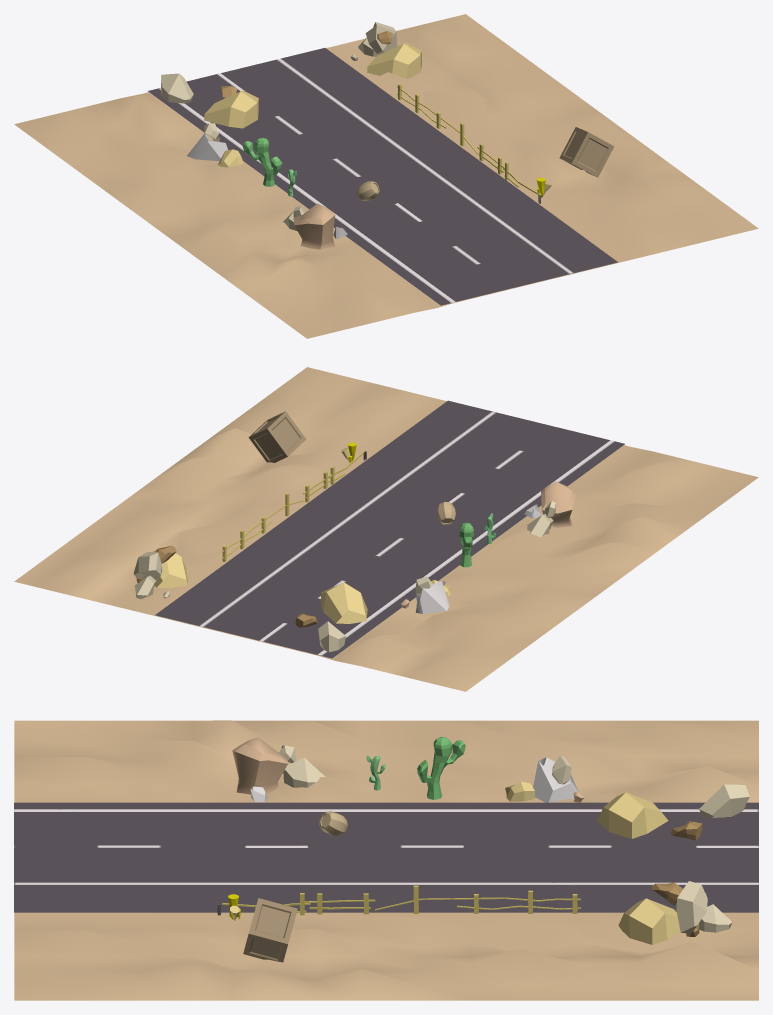
The model's file is moitruong.fbx.
3 renders of one model, top to bottom at view 1: azimuth 30°, elevation 25°; view 2: azimuth 150°, elevation 25°; view 3: azimuth 270°, elevation 25°, orthographic. The views are drawn at different scales.
Parts seen in each view (by area): view 1: desert, road, rock_1, rock_2, thunggo_1, polySurface156, rock_3, cactus_1, polySurface159, hangrao_1; view 2: desert, road, rock_1, thunggo_1, rock_2, polySurface156, rock_3, polySurface159, hangrao_1; view 3: desert, road, rock_1, rock_2, thunggo_1, rock_3, polySurface156, cactus_1, polySurface159, hangrao_1, thunggo_2, hangrao_2.
Boxes of the visible parts, bbox=[...] form: desert: bbox=[14, 14, 758, 338]; road: bbox=[148, 48, 617, 305]; rock_1: bbox=[350, 22, 421, 78]; rock_2: bbox=[283, 203, 347, 249]; thunggo_1: bbox=[559, 127, 614, 177]; polySurface156: bbox=[204, 90, 258, 128]; rock_3: bbox=[187, 123, 243, 167]; cactus_1: bbox=[242, 137, 282, 186]; polySurface159: bbox=[161, 73, 193, 103]; hangrao_1: bbox=[397, 84, 478, 154]; desert: bbox=[14, 367, 758, 691]; road: bbox=[155, 400, 624, 658]; rock_1: bbox=[133, 545, 187, 598]; thunggo_1: bbox=[248, 411, 306, 462]; rock_2: bbox=[524, 481, 575, 537]; polySurface156: bbox=[321, 582, 367, 623]; rock_3: bbox=[401, 576, 451, 613]; polySurface159: bbox=[318, 621, 345, 652]; hangrao_1: bbox=[222, 493, 303, 561]; desert: bbox=[14, 720, 758, 1000]; road: bbox=[14, 802, 758, 912]; rock_1: bbox=[618, 881, 732, 944]; rock_2: bbox=[232, 737, 325, 802]; thunggo_1: bbox=[243, 898, 297, 962]; rock_3: bbox=[505, 755, 584, 802]; polySurface156: bbox=[597, 792, 668, 838]; cactus_1: bbox=[417, 737, 465, 799]; polySurface159: bbox=[699, 784, 749, 817]; hangrao_1: bbox=[375, 885, 580, 913]; thunggo_2: bbox=[318, 811, 347, 835]; hangrao_2: bbox=[304, 893, 375, 914].
Size of the model in its own units: 35.57 by 4.24 by 39.99.
